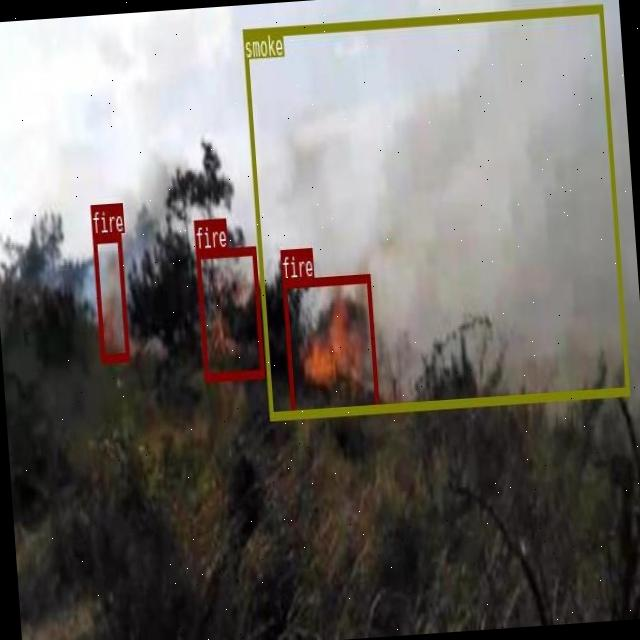fire: (282, 272, 378, 418), (196, 244, 264, 380), (92, 230, 128, 360)
smoke: (242, 2, 628, 418)
